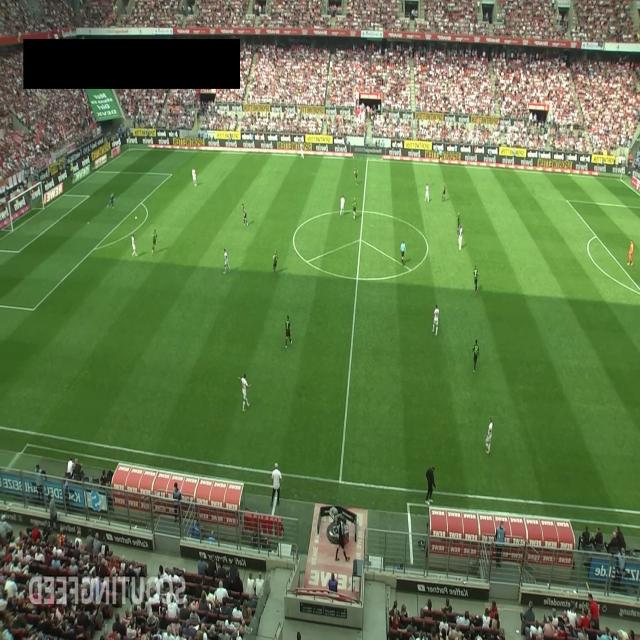ball: (135, 216, 137, 220)
goalkeeper: (627, 240, 634, 267), (107, 192, 115, 210)
player: (238, 373, 252, 412), (485, 417, 493, 454), (285, 315, 293, 348), (222, 248, 231, 274), (472, 339, 479, 372), (432, 303, 439, 336), (152, 228, 158, 256), (272, 250, 278, 275), (242, 203, 248, 227), (132, 235, 138, 257), (339, 195, 345, 217), (474, 264, 478, 296), (458, 225, 463, 250), (352, 197, 357, 220), (192, 167, 197, 187), (457, 211, 461, 231), (425, 183, 429, 203), (442, 182, 446, 201), (354, 166, 358, 184)
referee: (400, 239, 406, 266), (438, 147, 442, 164)
